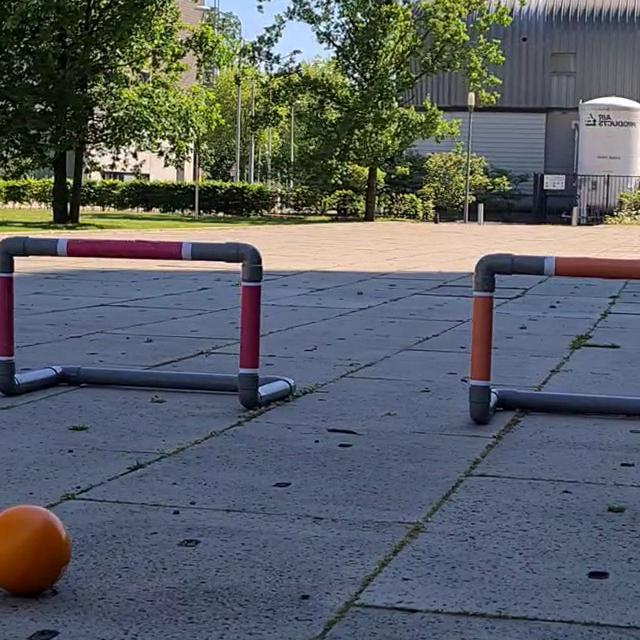ball: (0, 499, 75, 600)
